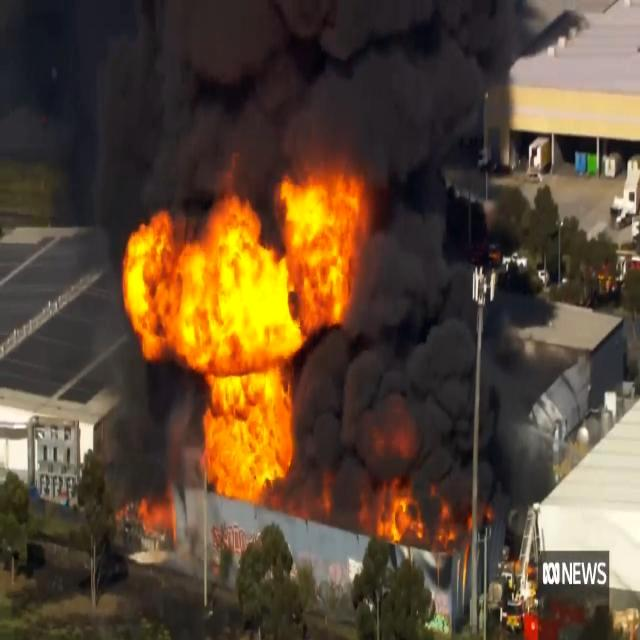fire: (93, 166, 414, 534)
